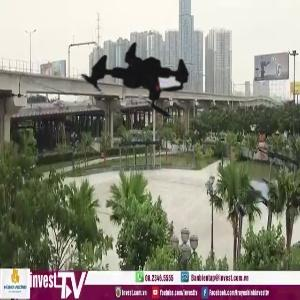drone: (59, 6, 218, 165)
